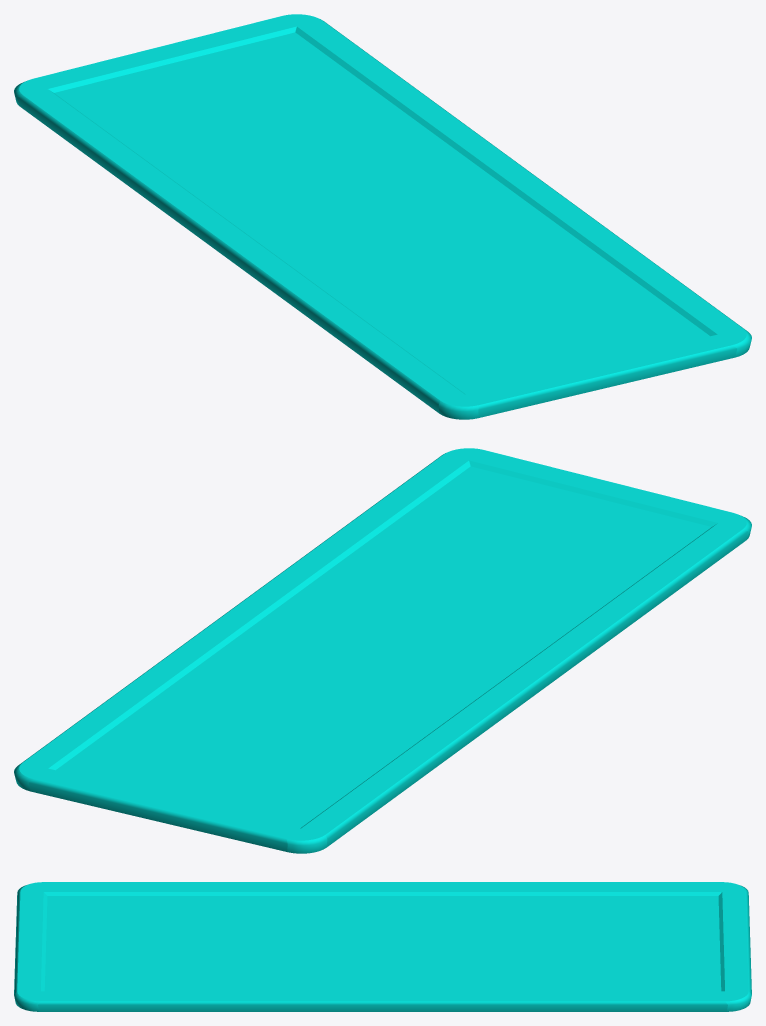
Rendered from Board_Sliding_02.fbx.
The picture shows the model from 3 angles, top to bottom: view 1: azimuth 30°, elevation 25°; view 2: azimuth 150°, elevation 25°; view 3: azimuth 270°, elevation 25°; orthographic projection. The views are drawn at different scales.
Visible parts, largest first — view 1: Board_Sliding_02; view 2: Board_Sliding_02; view 3: Board_Sliding_02.
Part boxes in pixels (x1,y1,x2,y2): Board_Sliding_02: [14, 14, 751, 419]; Board_Sliding_02: [14, 448, 751, 853]; Board_Sliding_02: [14, 882, 751, 1011].
Bounding box in the file's own units: 44.91 × 1.68 × 115.
